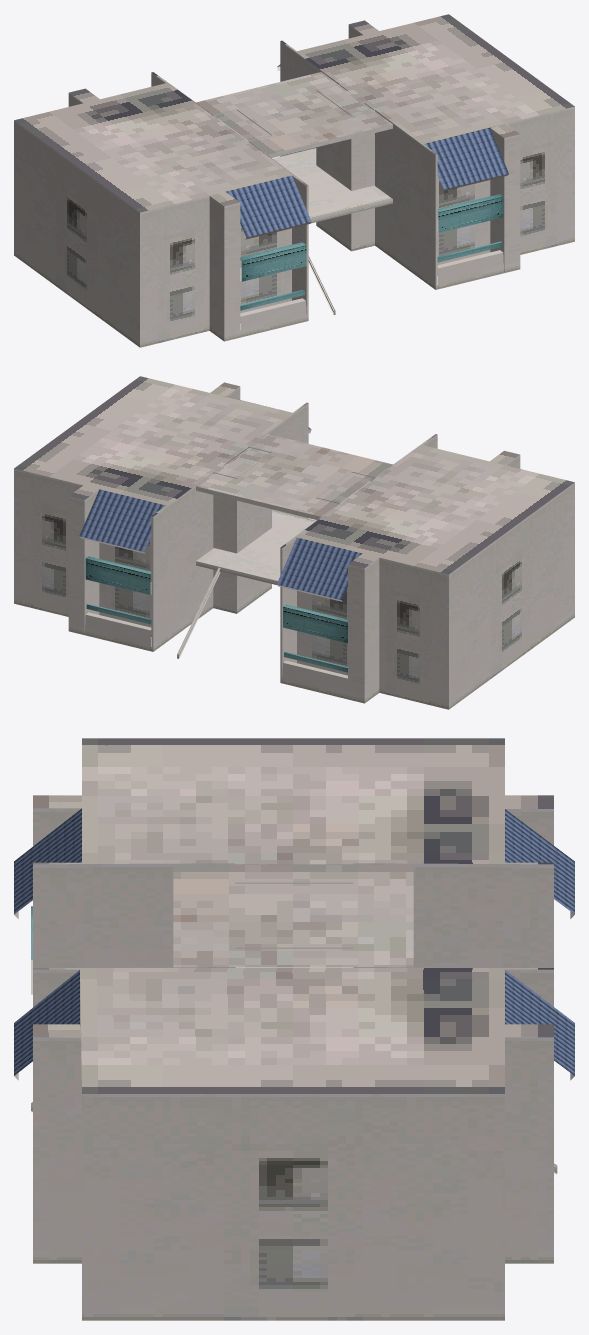
The model's file is lodhseing15.obj.
3 views of the same model, one above another, from view 1: azimuth 30°, elevation 25°; view 2: azimuth 150°, elevation 25°; view 3: azimuth 270°, elevation 25° (orthographic). The views are drawn at different scales.
Visible parts, largest first — view 1: lodhseing15; view 2: lodhseing15; view 3: lodhseing15.
Boxes of the visible parts, x1,y1,x2,y2 form: lodhseing15: [14, 14, 574, 347]; lodhseing15: [14, 376, 574, 709]; lodhseing15: [14, 738, 574, 1320].
Bounding box in the file's own units: 28.66 × 8.56 × 19.11.
Materials: 4 (4 with a texture image).
